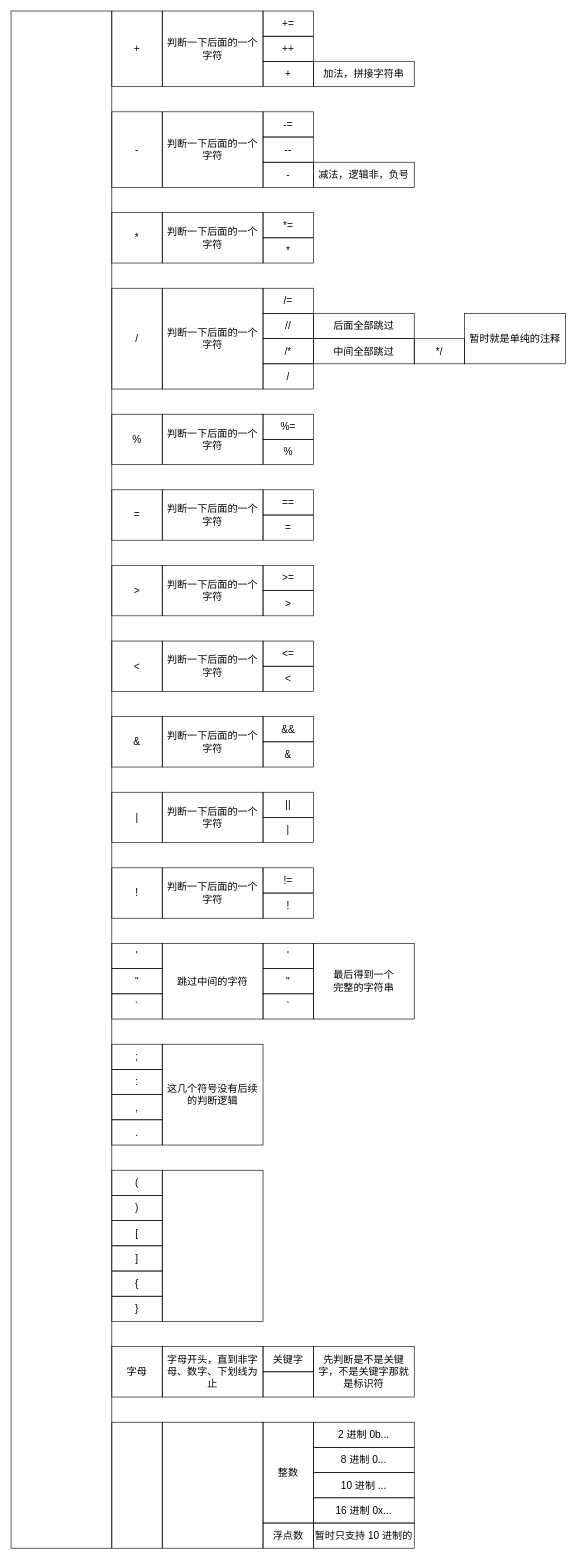
Some shapes in this 576 by 1559 pixel diagram are drawn without their labels. Here are the shapes that lost their labels. From the top down, the centre of each, then its label:
At (61,779): "基于运算符优先级的词法分析".
At (212,1245): "词法分析这里不用管左右括号是否成对。检查括号是否成对是语法分析的工作。".
At (287,1384): "标识符".
At (136,1485): "数字".
At (212,1485): "数字开头，直到非数字为止，需要注意除了 10 进制，还有 2 进制、 8 进制、16 进制的数字格式".
